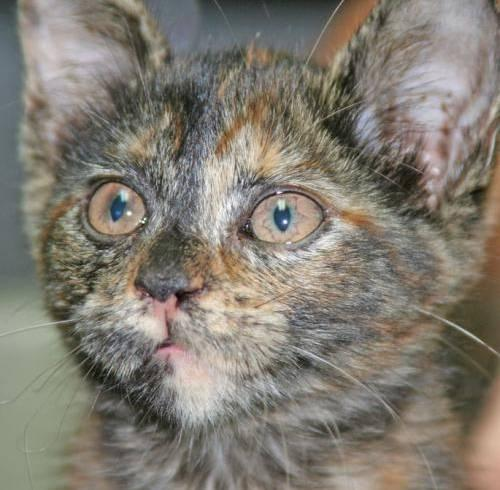cat: (18, 0, 499, 489)
